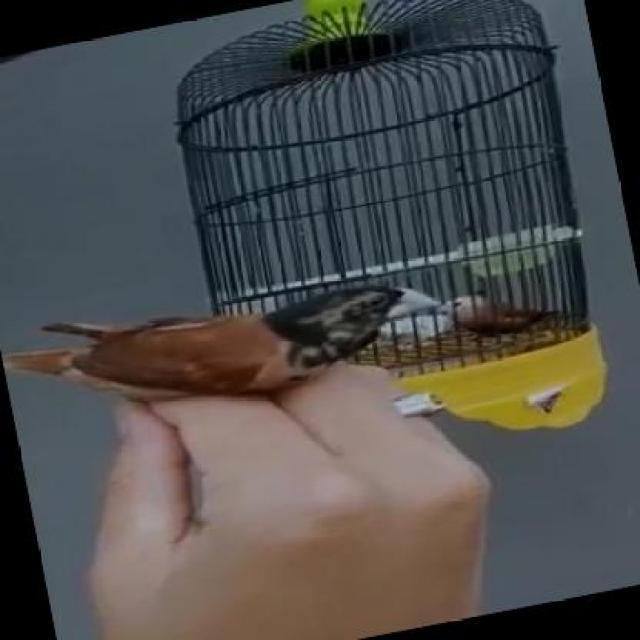Bird: (24, 272, 396, 395), (451, 285, 563, 346)
